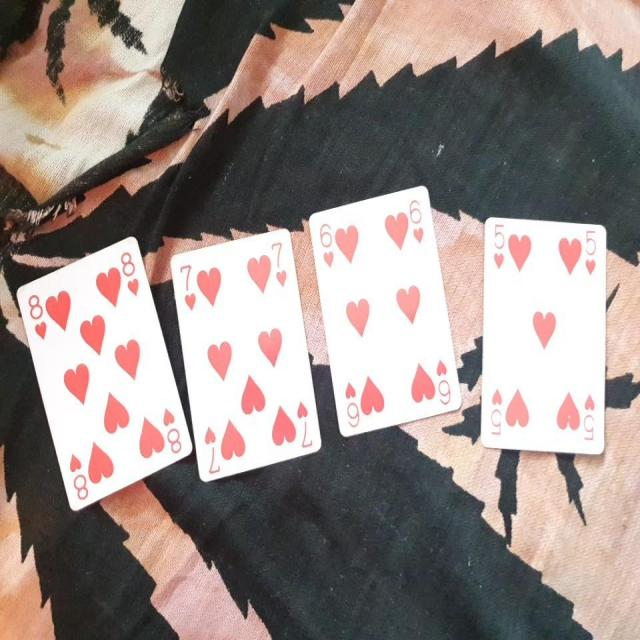5 Hearts: (483, 209, 614, 467)
6 Hearts: (304, 178, 466, 442)
7 Hearts: (166, 222, 327, 486)
8 Hearts: (14, 230, 198, 532)
